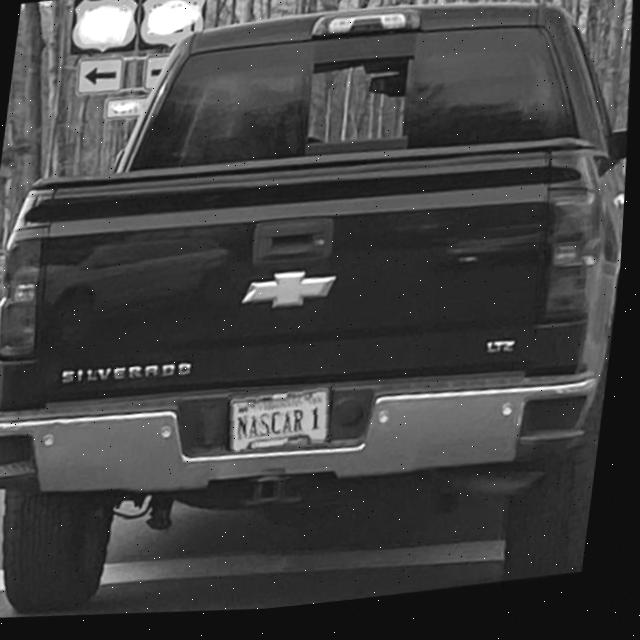LicensePlate: (233, 393, 334, 456)
